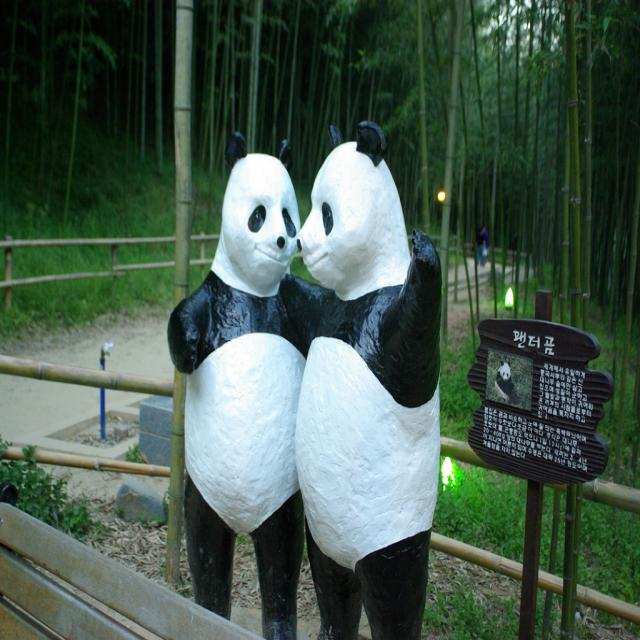panda: (288, 118, 444, 640), (165, 128, 324, 640)
